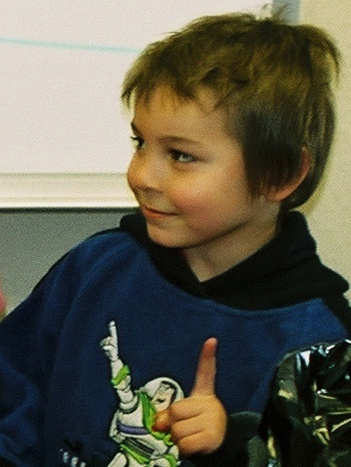head: (115, 9, 315, 259)
person: (0, 16, 351, 462)
